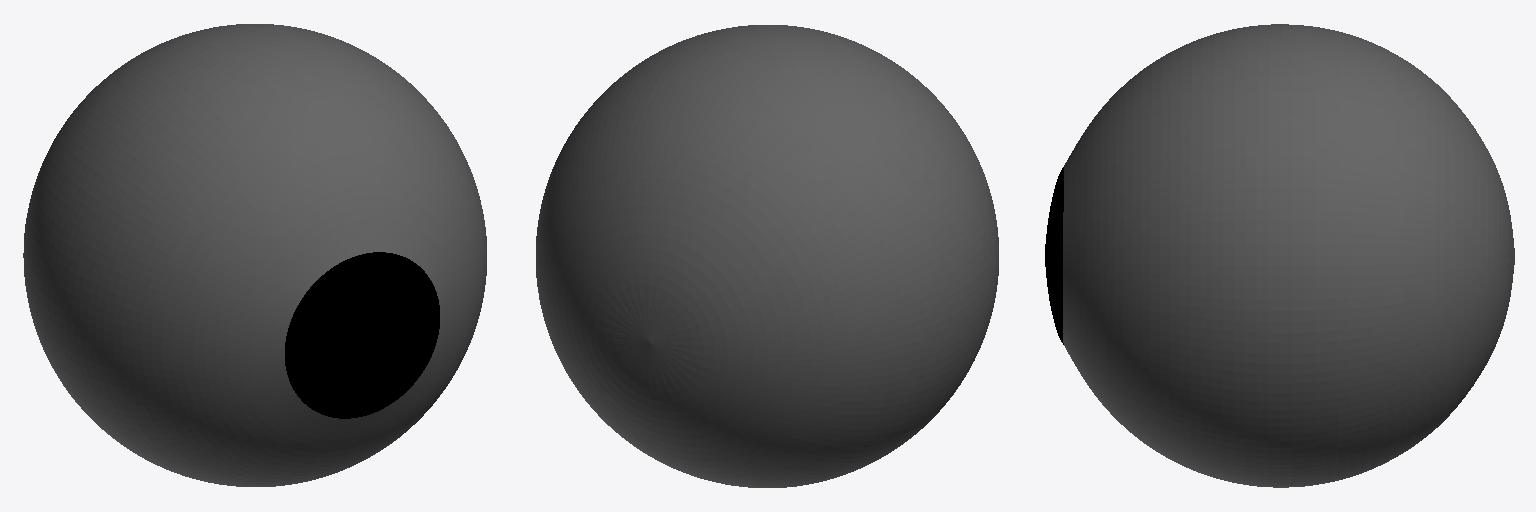
The model's file is eyeball.obj.
The picture shows the model from 3 angles: view 1: azimuth 30°, elevation 25°; view 2: azimuth 150°, elevation 25°; view 3: azimuth 270°, elevation 25°; orthographic projection.
Parts seen in each view (by area): view 1: eyeball_1_eye_1; view 2: eyeball_1_eye_1; view 3: eyeball_1_eye_1.
Part boxes in pixels (left/top/right/bottom): eyeball_1_eye_1: left=23, top=24, right=486, bottom=486; eyeball_1_eye_1: left=536, top=25, right=998, bottom=487; eyeball_1_eye_1: left=1045, top=24, right=1514, bottom=487.
Bounding box in the file's own units: 3.86 × 3.86 × 3.92.